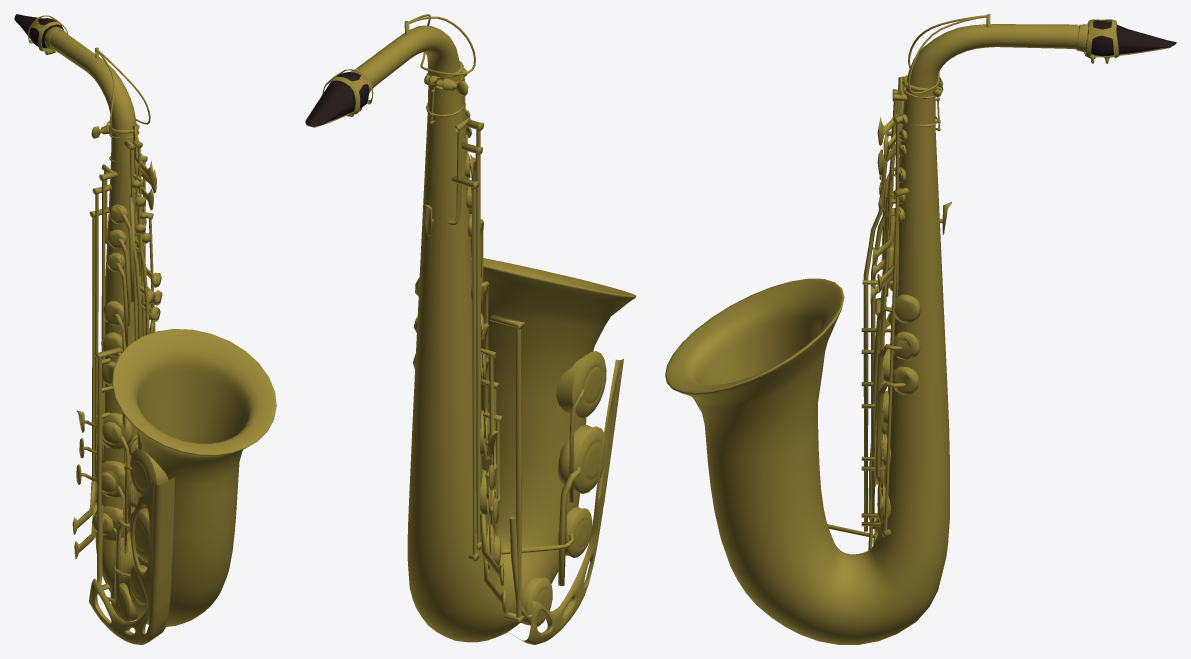
Rendered from saxophone_alto.glb.
3 renders of one model, left to right at view 1: azimuth 30°, elevation 25°; view 2: azimuth 150°, elevation 25°; view 3: azimuth 270°, elevation 25°, orthographic. The views are drawn at different scales.
Visible parts, largest first — view 1: Object_2, Object_3, Object_7, Object_9, Object_4, Object_5, Object_6, Object_8; view 2: Object_2, Object_3, Object_7, Object_9, Object_4, Object_5, Object_6, Object_8; view 3: Object_2, Object_3, Object_5, Object_6.
Part boxes in pixels (x1,y1,x2,y2): Object_2: (49,30,276,626); Object_3: (72,47,162,590); Object_7: (89,477,174,644); Object_9: (97,466,132,603); Object_4: (130,449,168,497); Object_5: (14,14,63,48); Object_6: (28,15,67,54); Object_8: (95,49,150,133); Object_2: (355,25,636,642); Object_3: (404,20,524,622); Object_7: (504,359,623,644); Object_9: (494,389,584,618); Object_4: (556,351,606,417); Object_5: (305,72,369,126); Object_6: (307,69,373,127); Object_8: (409,14,475,75); Object_2: (665,24,1077,644); Object_3: (861,14,990,537); Object_5: (1085,21,1176,56); Object_6: (1075,19,1171,63).
Size of the model in its own units: 2.58 by 8.91 by 6.6.
